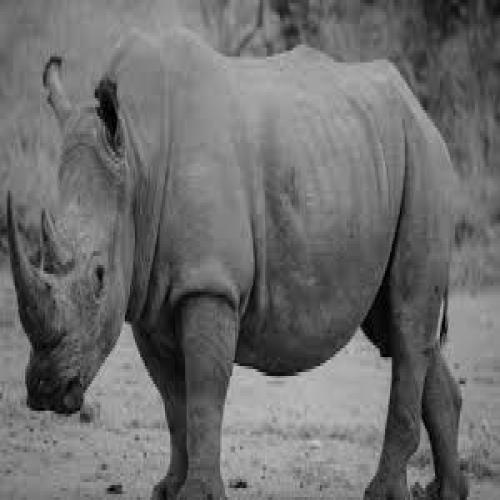rhino-endangered: (8, 32, 463, 486)
